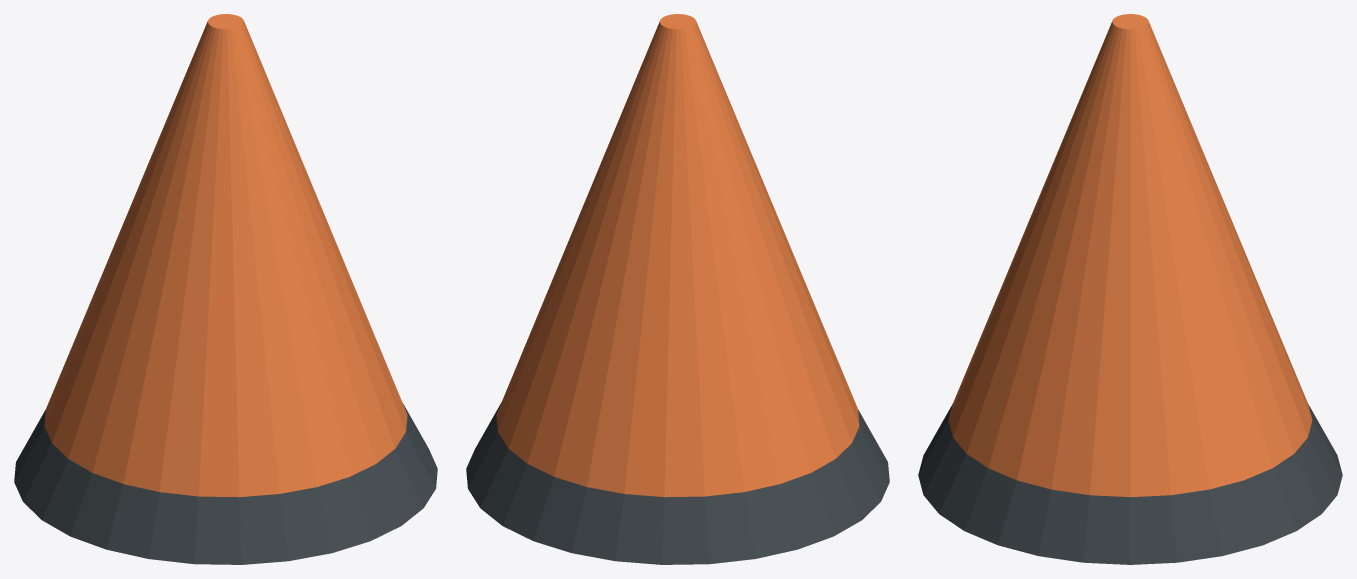
Rendered from powerboat-racing-and-launch-ramp-turn-buoy-2b09f04a__22284.glb.
3 views of the same model, side by side, from view 1: azimuth 30°, elevation 25°; view 2: azimuth 150°, elevation 25°; view 3: azimuth 270°, elevation 25° (orthographic).
Parts seen in each view (by area): view 1: turn-buoy; view 2: turn-buoy; view 3: turn-buoy.
Boxes of the visible parts, left/top/right/bottom form: turn-buoy: left=14, top=14, right=437, bottom=564; turn-buoy: left=466, top=14, right=889, bottom=564; turn-buoy: left=918, top=14, right=1342, bottom=564.
Size of the model in its own units: 1.4 by 1.65 by 1.4.
